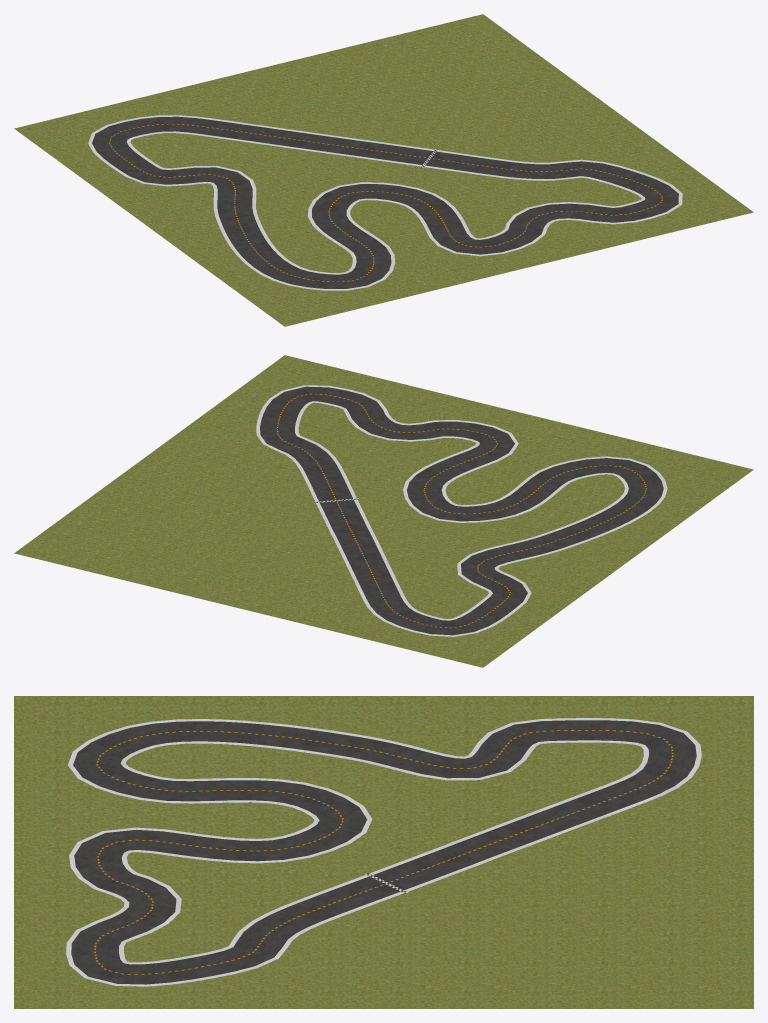
Rendered from 2022_reinvent_champ.dae.
3 views of the same model, one above another, from view 1: azimuth 30°, elevation 25°; view 2: azimuth 150°, elevation 25°; view 3: azimuth 270°, elevation 25° (orthographic). The views are drawn at different scales.
Visible parts, largest first — view 1: field, road, ol, il, cl; view 2: field, road, ol, il, cl; view 3: field, road, ol, il, cl.
Part boxes in pixels (x1,y1,x2,y2): field: [14, 14, 753, 326]; road: [92, 116, 678, 288]; ol: [88, 115, 682, 290]; il: [127, 131, 645, 274]; cl: [109, 124, 662, 281]; field: [14, 355, 753, 667]; road: [260, 386, 663, 635]; ol: [256, 385, 667, 636]; il: [295, 401, 628, 620]; cl: [277, 393, 646, 628]; field: [14, 696, 753, 1008]; road: [71, 720, 696, 986]; ol: [66, 718, 701, 986]; il: [119, 740, 648, 964]; cl: [94, 730, 673, 974].
Size of the model in its own units: 10.83 by 10.83 by 0.0025.
Materials: 6 (6 with a texture image).
